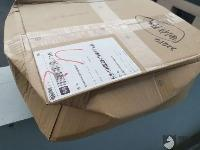undamaged: (1, 0, 198, 144)
